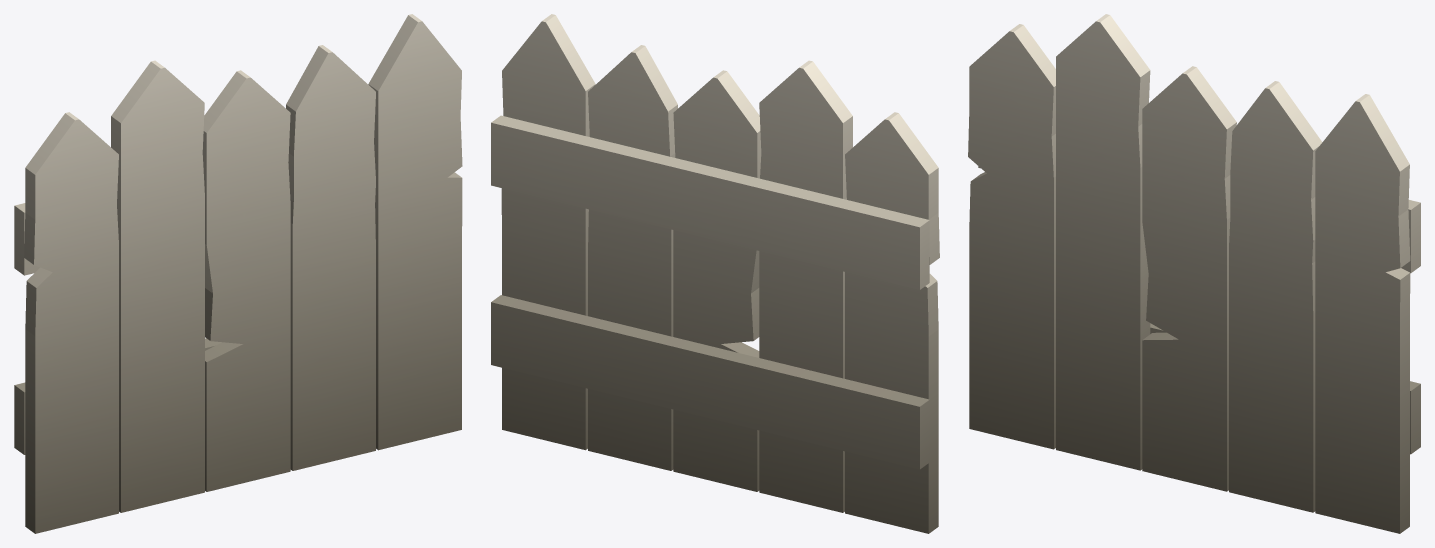
File: White3.glb
3 renders of one model, left to right at view 1: azimuth 30°, elevation 25°; view 2: azimuth 150°, elevation 25°; view 3: azimuth 330°, elevation 25°, orthographic.
Visible parts, largest first — view 1: White3.001; view 2: White3.001; view 3: White3.001.
Boxes of the visible parts, x1,y1,x2,y2 form: White3.001: (14,14,462,533); White3.001: (491,14,939,533); White3.001: (968,14,1420,533).
Size of the model in its own units: 10.01 by 9.68 by 0.8002.
Materials: 1 (1 with a texture image).
